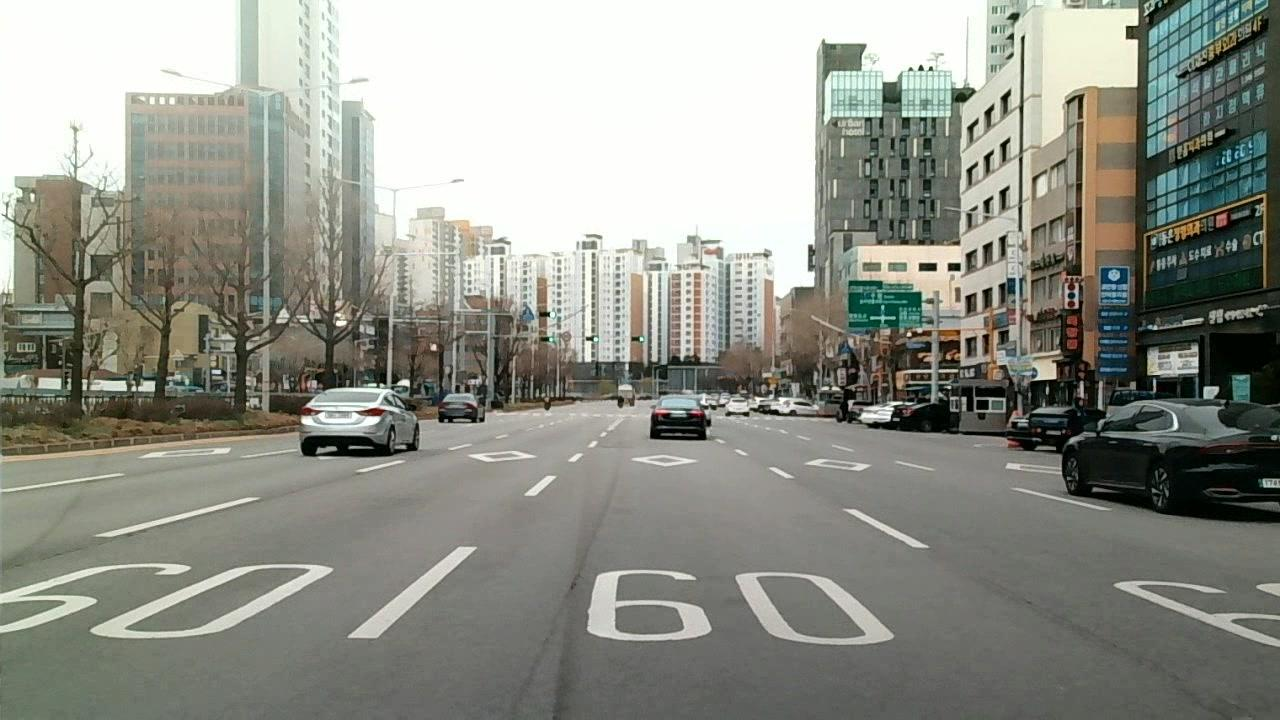banner: (1038, 605, 1232, 717), (506, 574, 594, 720), (3, 532, 102, 574)
